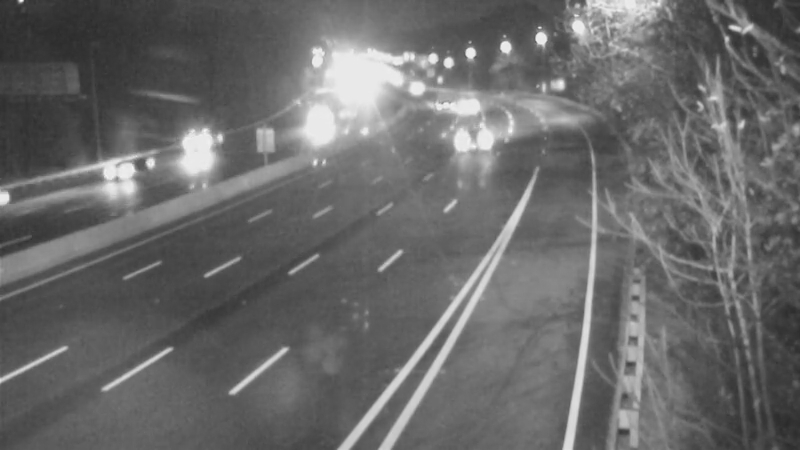vehicle: (83, 131, 163, 211), (1, 170, 74, 250), (1, 155, 63, 235), (443, 80, 493, 130), (451, 108, 501, 158), (171, 124, 221, 174), (289, 103, 339, 153)
